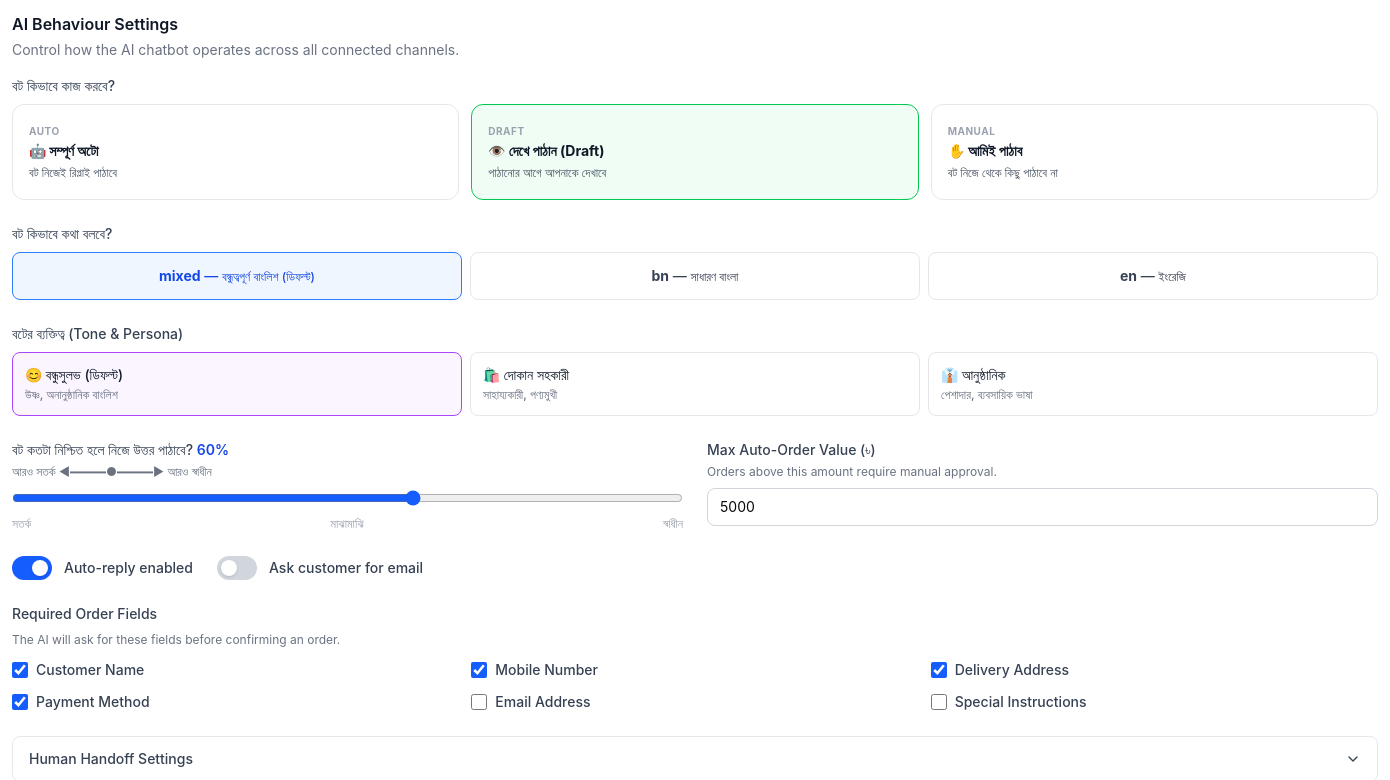
AISettingsForm › updates confidence threshold on slider change
Set the slider to "80" at [544, 498], box [12,490,683,506]
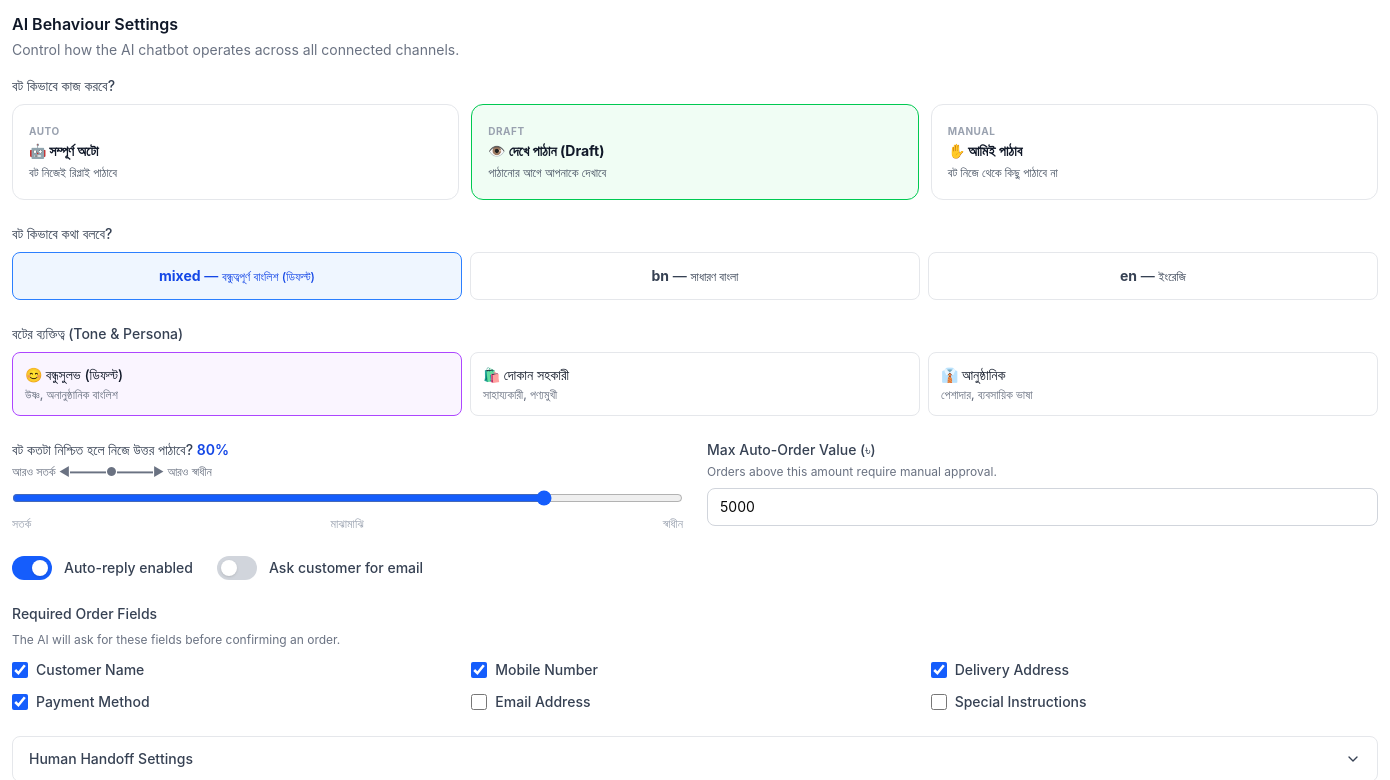
Expected: the text "80%" is shown, [197,441,229,458]
